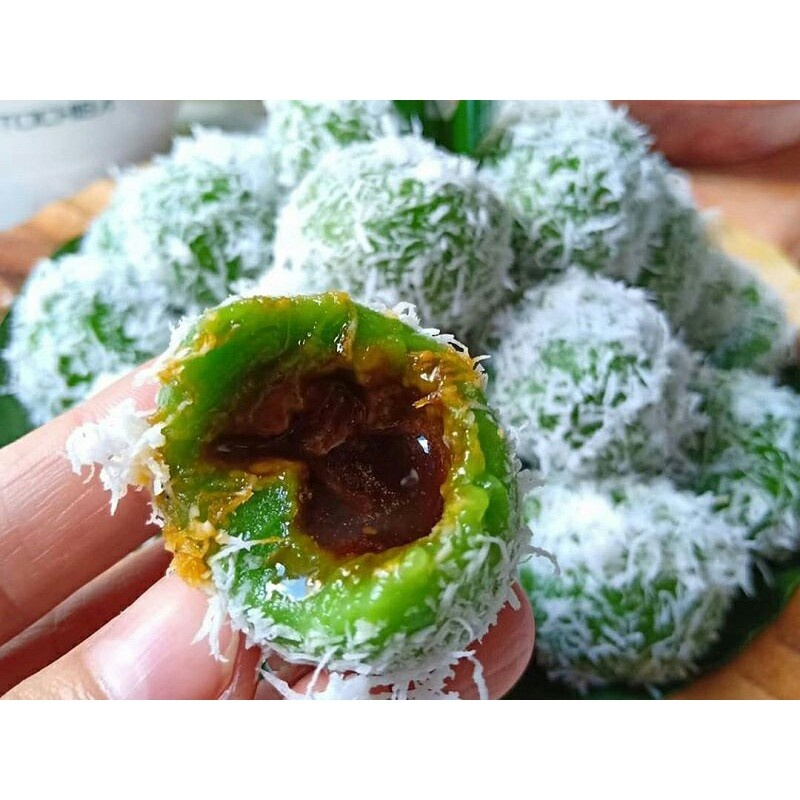klepon: (75, 261, 519, 696)
